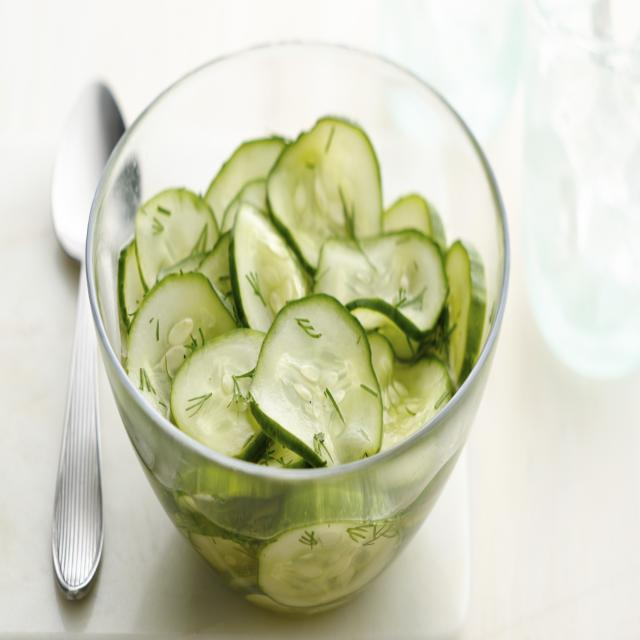Pickle: (249, 293, 382, 468), (268, 118, 382, 269), (126, 271, 236, 418), (315, 231, 448, 340), (170, 329, 268, 460), (229, 202, 311, 333), (369, 333, 452, 448), (135, 189, 219, 289), (205, 138, 286, 229), (445, 242, 471, 382)
